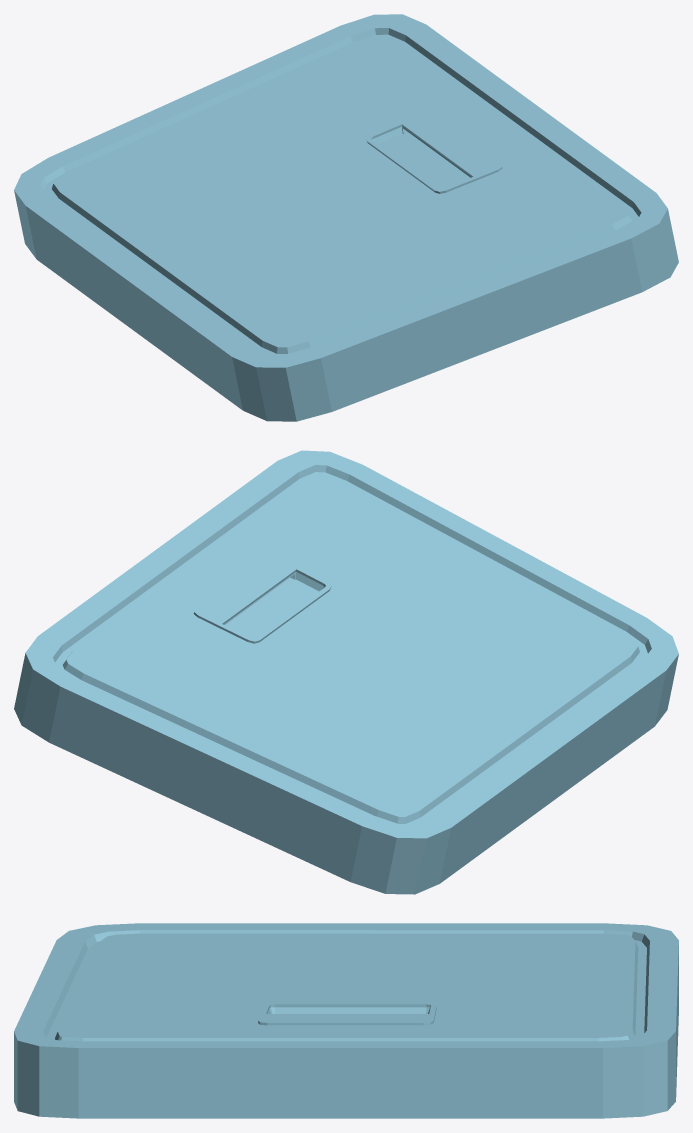
The model's file is ConsoleCabinetSideAssy.FBX.
The picture shows the model from 3 angles, top to bottom: view 1: azimuth 30°, elevation 25°; view 2: azimuth 150°, elevation 25°; view 3: azimuth 270°, elevation 25°; orthographic projection. The views are drawn at different scales.
Parts seen in each view (by area): view 1: ConsoleCabinetSide, ConsoleCabinetKnob; view 2: ConsoleCabinetSide, ConsoleCabinetKnob; view 3: ConsoleCabinetSide, ConsoleCabinetKnob.
Boxes of the visible parts, bbox=[...] form: ConsoleCabinetSide: bbox=[14, 14, 678, 421]; ConsoleCabinetKnob: bbox=[366, 112, 502, 193]; ConsoleCabinetSide: bbox=[14, 450, 678, 894]; ConsoleCabinetKnob: bbox=[193, 555, 331, 643]; ConsoleCabinetSide: bbox=[14, 923, 678, 1118]; ConsoleCabinetKnob: bbox=[258, 1003, 436, 1025].
Size of the model in its own units: 0.3716 by 0.1228 by 0.4585.
